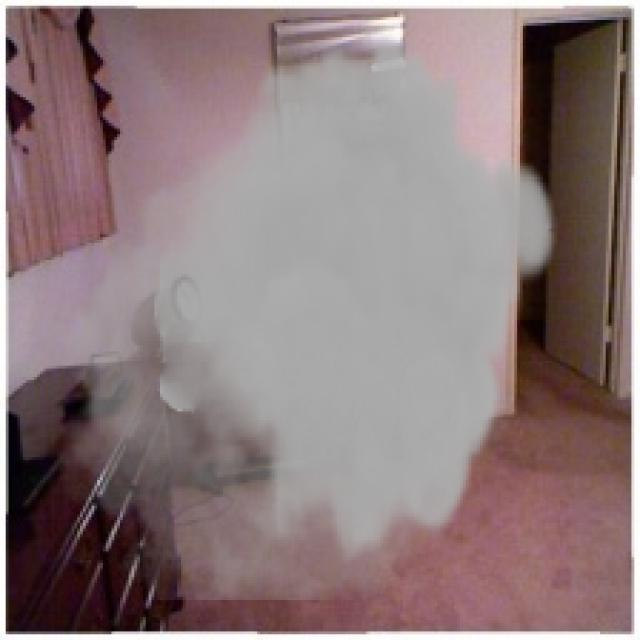Smoke: (43, 31, 560, 600)
